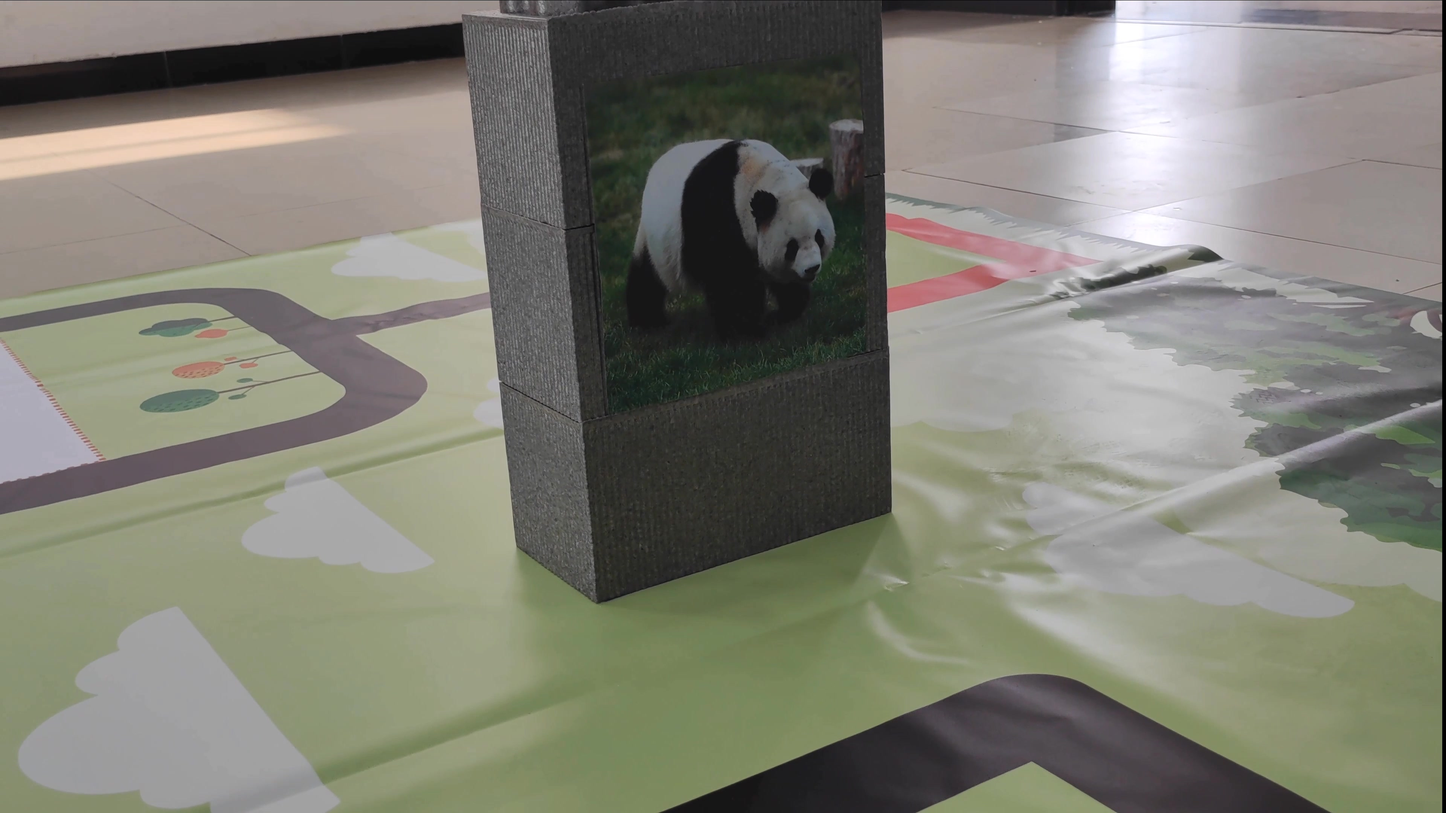panda: (592, 90, 857, 348)
